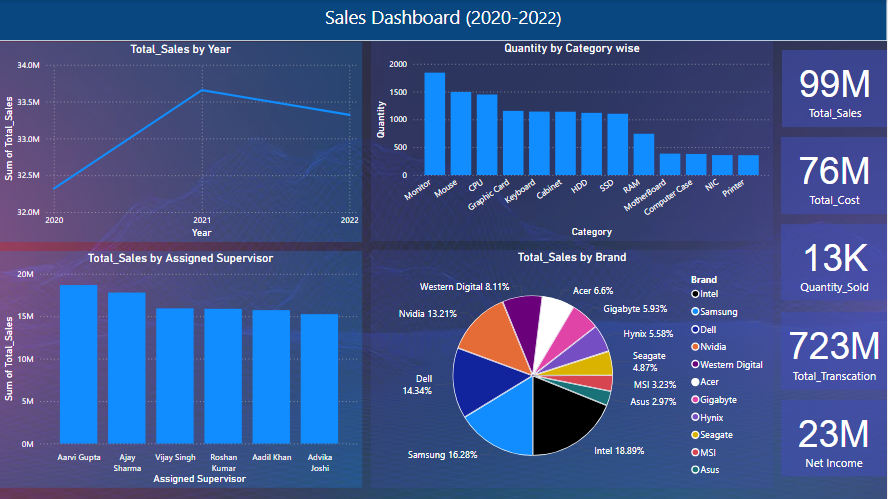

The page's visual inventory and layout, read from the dashboard file:
{"tool":"powerbi","page":{"name":"Page 1","canvas":[1280,720],"ordinal":0},"visuals":[{"type":"card","fields":{"Values":["Sales_Data.Total_Sales"]},"box":[1127.3,72,152.6,110.9],"z":0},{"type":"card","fields":{"Values":["Sales_Data.Total_Cost"]},"box":[1125.9,196.7,154.1,111.5],"z":1000},{"type":"card","fields":{"Values":["Sales_Data.Quantity"]},"box":[1125.9,323,154.1,109.8],"z":2000},{"type":"card","fields":{"Values":["Sales_Data.Order_Number"]},"box":[1125.9,449.3,154.1,112.3],"z":3000},{"type":"card","fields":{"Values":["Sales_Data.Net Income"]},"box":[1126.2,575.4,152.5,109.8],"z":4000},{"type":"textbox","box":[0,0,1279,58.5],"z":5000},{"type":"textbox","box":[0,0,1279,58.5],"z":6000},{"type":"textbox","box":[0,0,1278.5,58.5],"z":7000},{"type":"clusteredColumnChart","title":"Quantity by Category wise","fields":{"Y":["Sales_Data.Quantity"],"Category":["Sales_Data.Category"]},"box":[535.7,59,578.9,288],"z":8000},{"type":"pieChart","fields":{"Y":["Sales_Data.Total_Sales"],"Category":["Sales_Data.Brand"]},"box":[535.7,360,578.9,342.7],"z":9000},{"type":"lineChart","title":"Total_Sales by Year","fields":{"Y":["Sales_Data.Total_Sales"],"Category":["Sales_Data.Order_Date.Variation.Date Hierarchy.Year"]},"box":[0,60.5,522.7,288],"z":9001},{"type":"clusteredColumnChart","title":"Total_Sales by Assigned Supervisor","fields":{"Y":["Sales_Data.Total_Sales"],"Category":["Sales_Data.Assigned Supervisor"]},"box":[0,361.4,522.7,341.3],"z":9002}]}

Visuals, with their boxes in screenshot pixels (x1, y1, x2, y2), scaled from the page's 1280x720 canvas onto the 888x499 screenshot:
card - Sales_Data.Total_Sales: 782, 50, 887, 127
card - Sales_Data.Total_Cost: 781, 136, 887, 214
card - Sales_Data.Quantity: 781, 224, 887, 300
card - Sales_Data.Order_Number: 781, 311, 887, 389
card - Sales_Data.Net Income: 781, 399, 887, 475
textbox: 0, 0, 887, 41
textbox: 0, 0, 887, 41
textbox: 0, 0, 887, 41
"Quantity by Category wise" clusteredColumnChart: 372, 41, 773, 240
pieChart - Sales_Data.Total_Sales x Sales_Data.Brand: 372, 250, 773, 487
"Total_Sales by Year" lineChart: 0, 42, 363, 242
"Total_Sales by Assigned Supervisor" clusteredColumnChart: 0, 250, 363, 487
